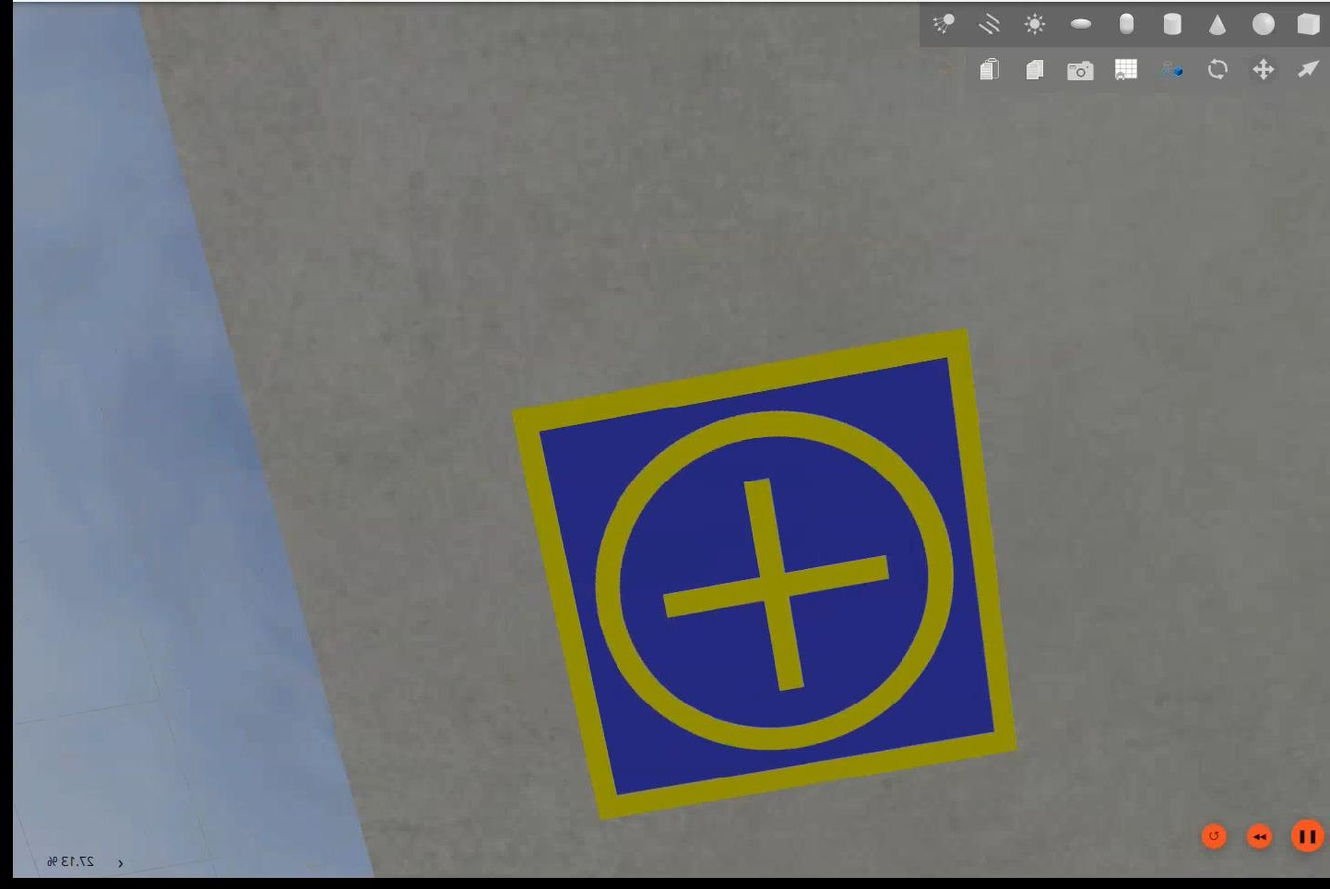small_base: (508, 323, 1015, 827)
